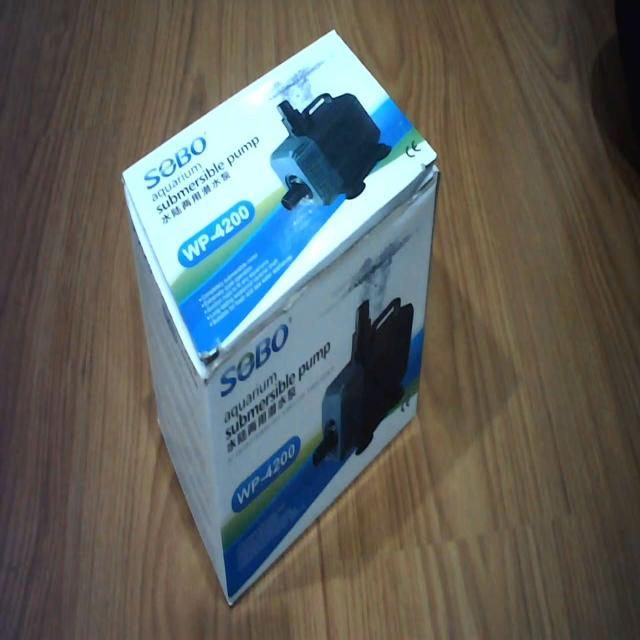SOBO_WP_4200: (115, 21, 447, 615)
